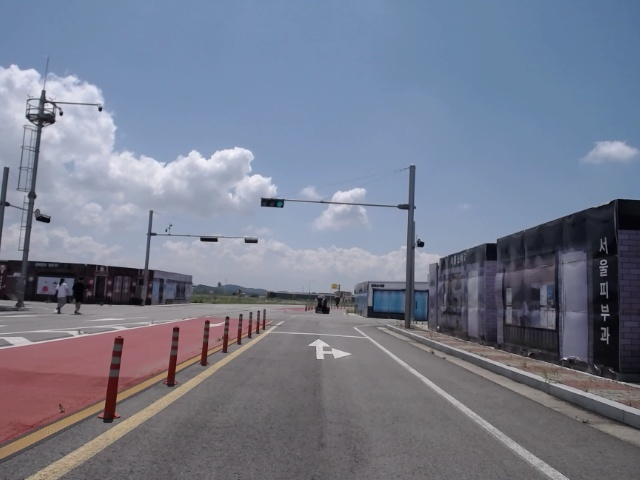green_3: (263, 198, 285, 207)
